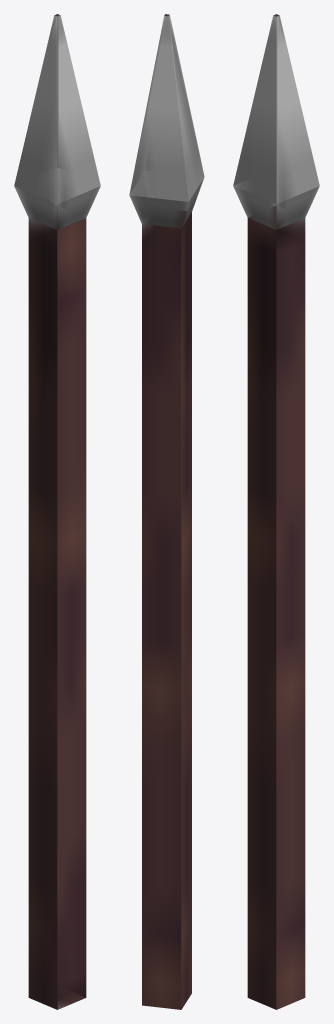
File: Spear_Blade.glb
The picture shows the model from 3 angles, left to right: view 1: azimuth 90°, elevation 25°; view 2: azimuth 210°, elevation 25°; view 3: azimuth 270°, elevation 25°; orthographic projection.
Visible parts, largest first — view 1: Spear_Blade; view 2: Spear_Blade; view 3: Spear_Blade.
Part boxes in pixels (box(x1,y1,x2,y2)): Spear_Blade: box(14, 14, 100, 1009); Spear_Blade: box(129, 14, 204, 1009); Spear_Blade: box(233, 14, 319, 1009).
Bounding box in the file's own units: 0.2 × 2.5 × 0.2.
Materials: 1 (1 with a texture image).
